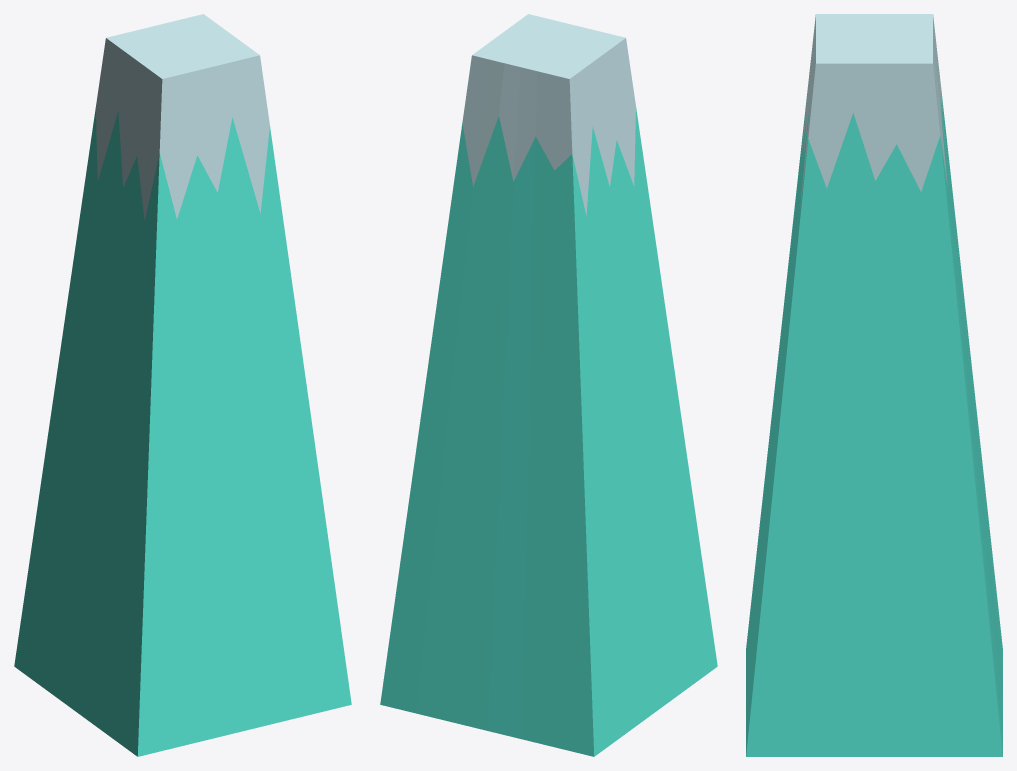
The model's file is Mountain5.fbx.
3 views of the same model, side by side, from view 1: azimuth 30°, elevation 25°; view 2: azimuth 150°, elevation 25°; view 3: azimuth 270°, elevation 25° (orthographic). The views are drawn at different scales.
Parts seen in each view (by area): view 1: dağ5; view 2: dağ5; view 3: dağ5.
Part boxes in pixels (x1,y1,x2,y2): dağ5: (14, 14, 351, 756); dağ5: (380, 14, 717, 756); dağ5: (746, 14, 1002, 756).
Size of the model in its own units: 0.9033 by 2.58 by 0.9033.
